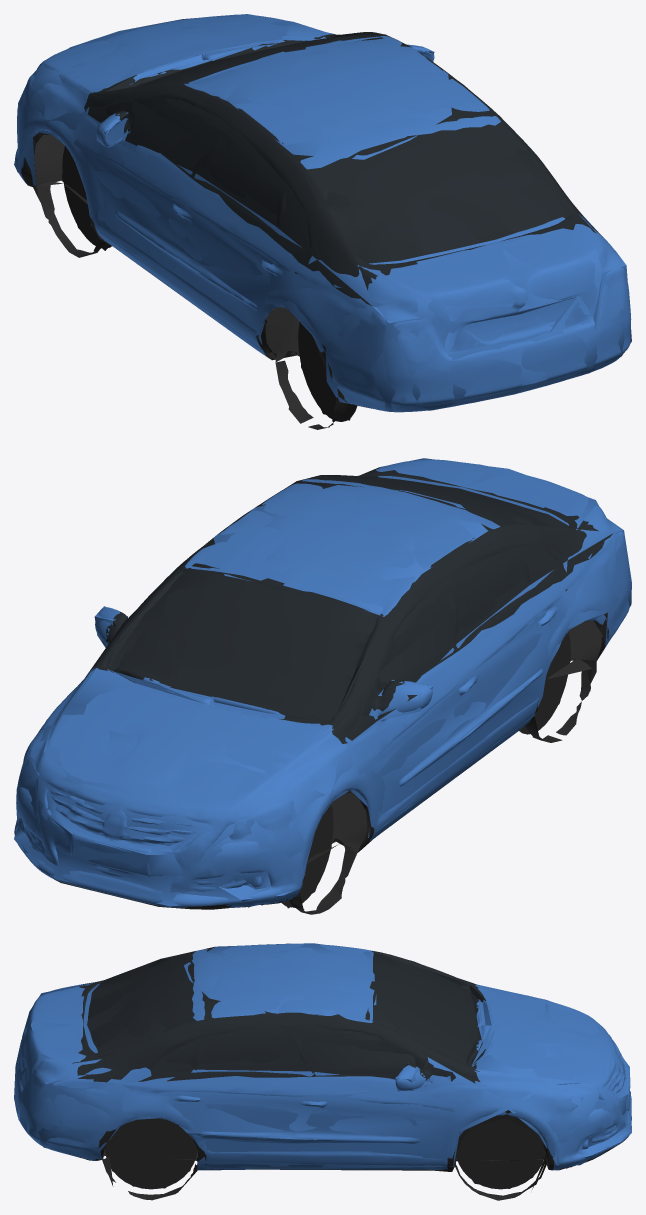
File: volkswagen-cc.glb
3 views of the same model, one above another, from view 1: azimuth 30°, elevation 25°; view 2: azimuth 150°, elevation 25°; view 3: azimuth 270°, elevation 25° (orthographic). The views are drawn at different scales.
Parts seen in each view (by area): view 1: body, far; view 2: body, far; view 3: body, far.
Boxes of the visible parts, left/top/right/bottom form: body: left=15, top=14, right=631, bottom=429; far: left=14, top=14, right=631, bottom=420; body: left=14, top=459, right=629, bottom=914; far: left=14, top=458, right=631, bottom=908; body: left=14, top=943, right=631, bottom=1200; far: left=14, top=943, right=631, bottom=1189.
Size of the model in its own units: 2.22 by 1.56 by 4.86.
